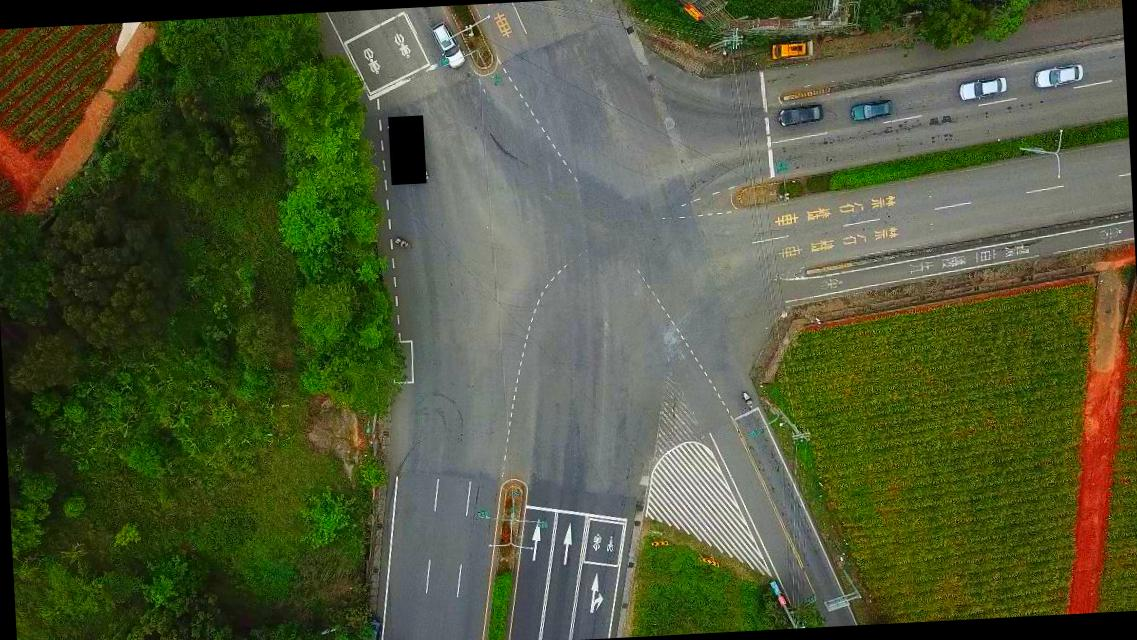vehicle: (430, 21, 464, 71), (846, 98, 896, 124), (1034, 63, 1084, 88), (957, 76, 1009, 100), (775, 104, 823, 126), (768, 40, 808, 60), (359, 614, 384, 639)
